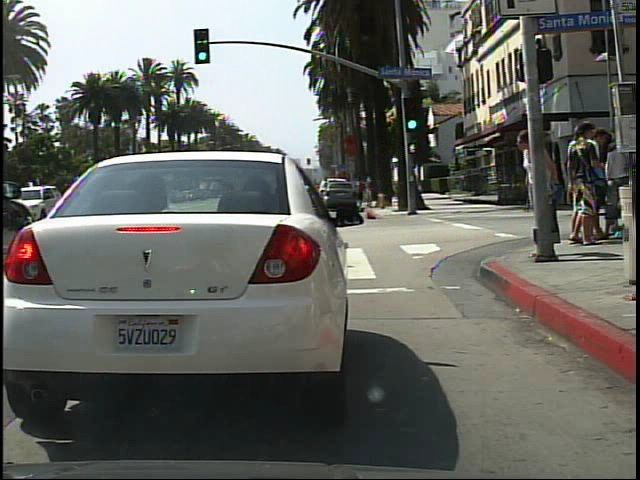person: (514, 124, 558, 265)
